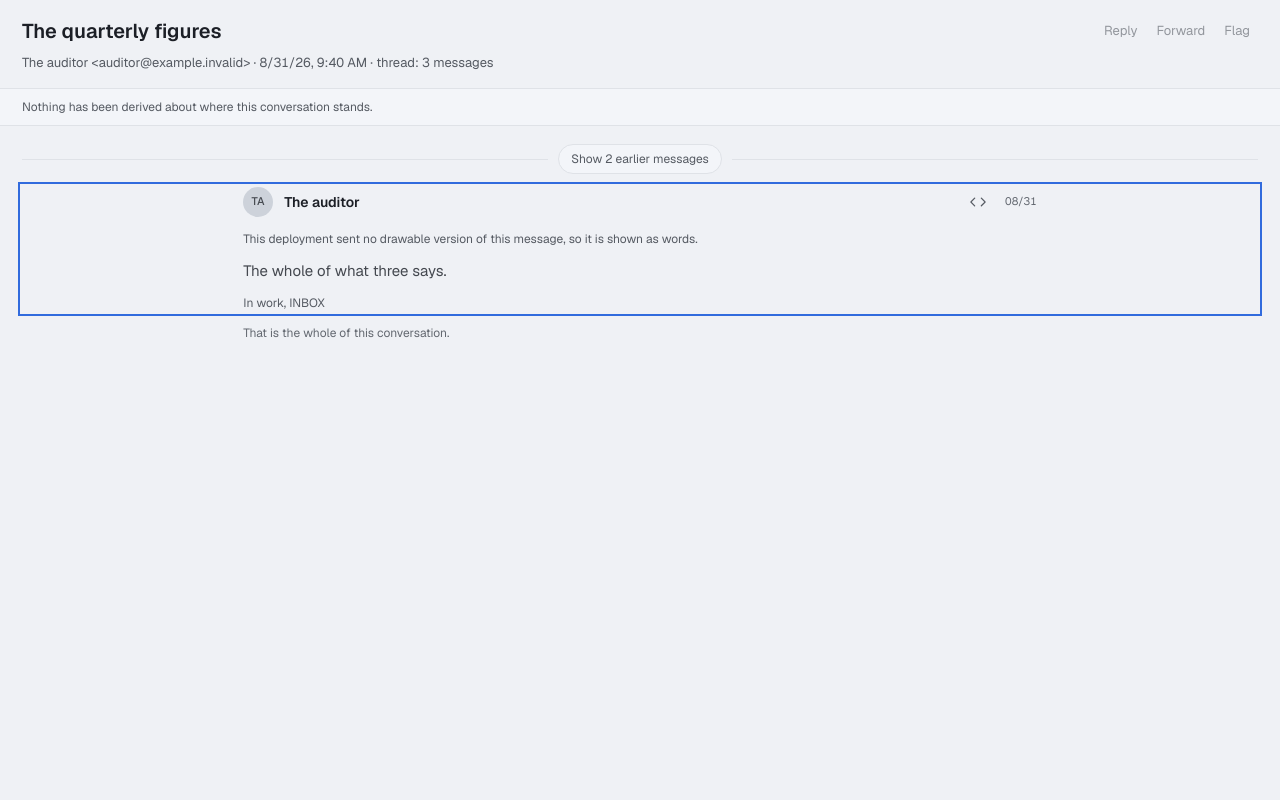
Test: Thread › shows the whole history in one press, and hides it again in the next
The width and height of the screenshot is (1280, 800).
Click the button "Show 2 earlier messages": (640, 159) [558,144,722,174]
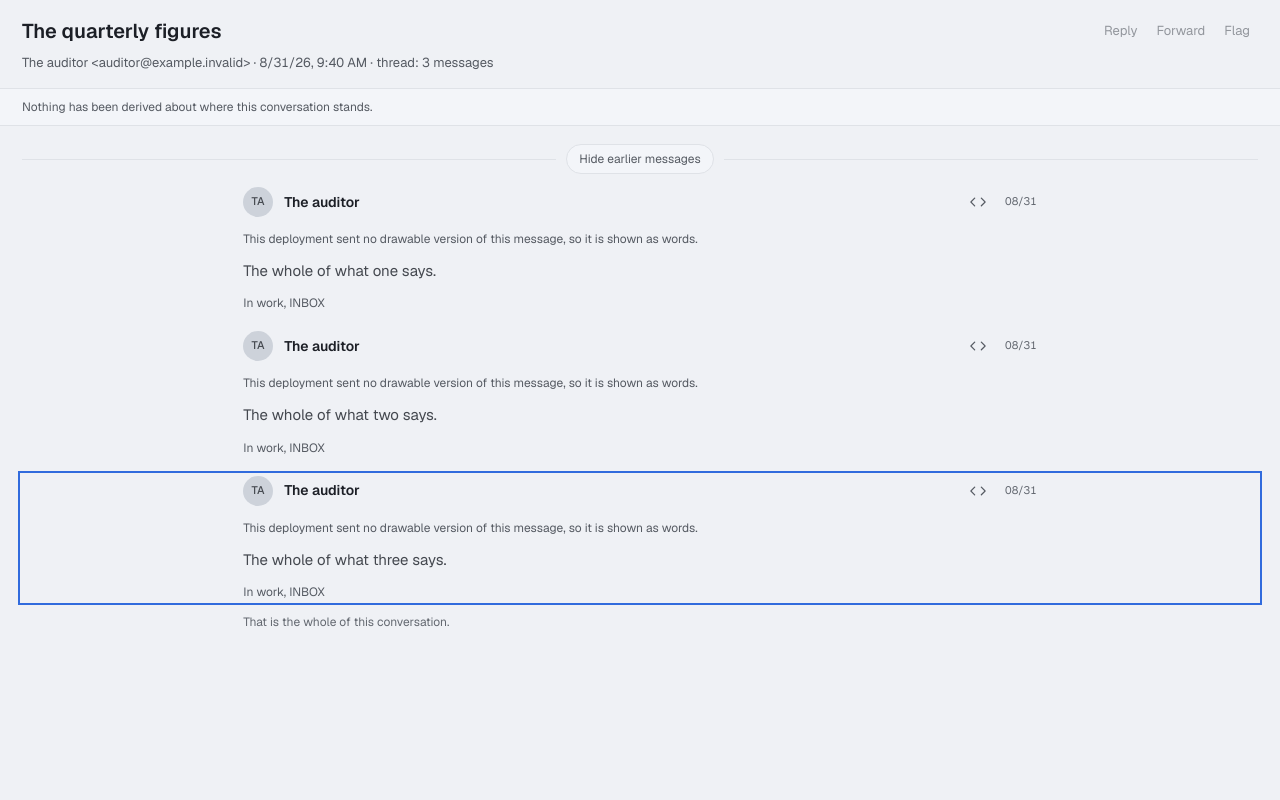
Expected: the number of list items is 3, [243,186,1037,311]; [243,330,1037,456]; [243,475,1037,600]
Expected: the text "The whole of what one says." is shown, [243,261,436,280]
Expected: the text "The whole of what two says." is shown, [243,405,437,424]
Click the button "Hide earlier messages": (640, 159) [566,144,714,174]
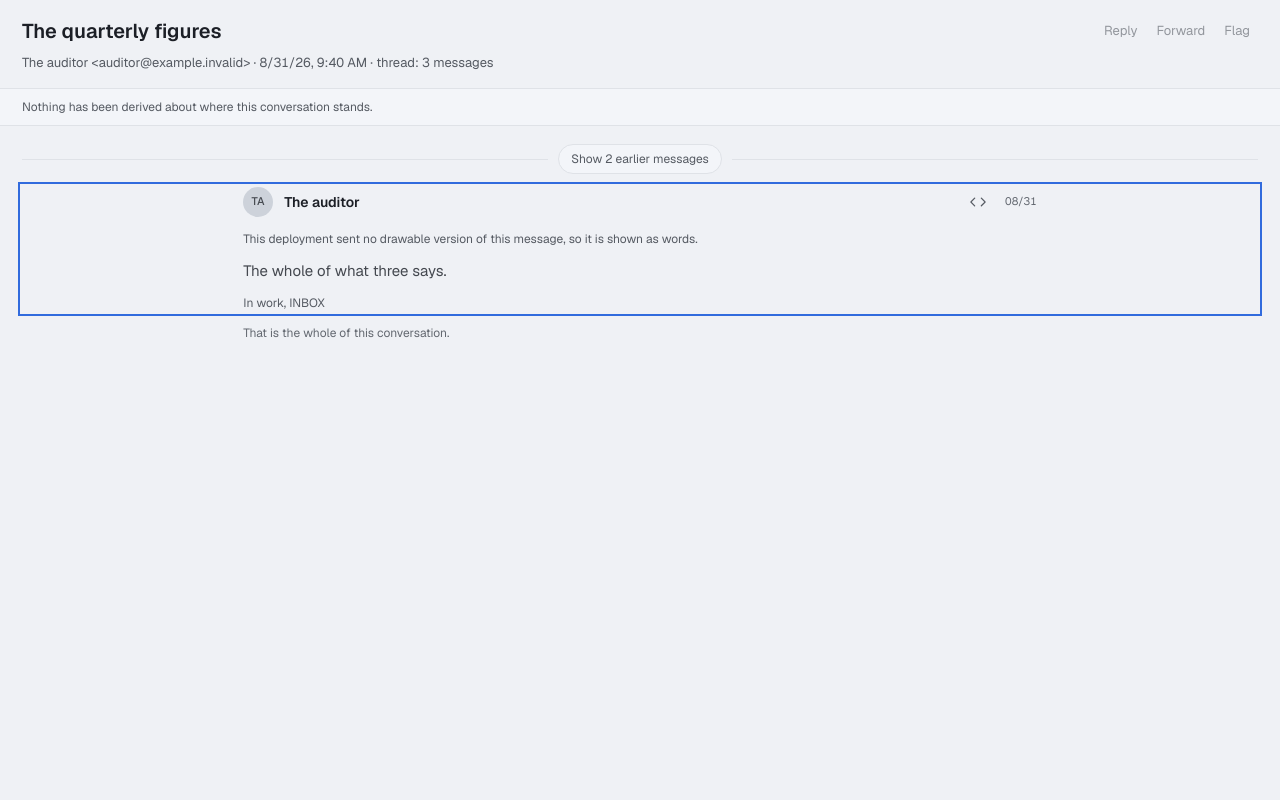
Expected: the number of list items is 1, [243,186,1037,311]
Expected: the text "The whole of what one says." is gone
